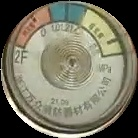green: (50, 2, 88, 30)
red: (12, 5, 52, 50)
yellow: (82, 8, 127, 57)
